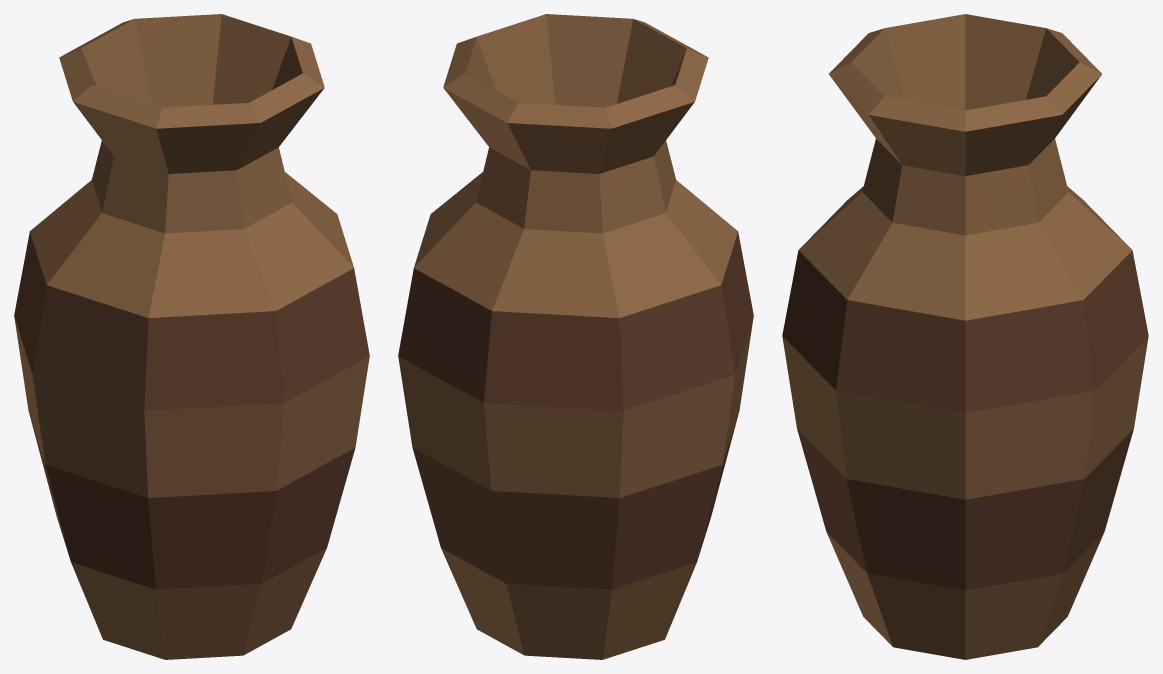
The model's file is Pot_Tall.gltf.
The picture shows the model from 3 angles, left to right: view 1: azimuth 30°, elevation 25°; view 2: azimuth 150°, elevation 25°; view 3: azimuth 270°, elevation 25°; orthographic projection.
Parts seen in each view (by area): view 1: Pot_Tall2; view 2: Pot_Tall2; view 3: Pot_Tall2.
Boxes of the visible parts, left/top/right/bottom form: Pot_Tall2: left=14, top=14, right=369, bottom=659; Pot_Tall2: left=398, top=14, right=753, bottom=659; Pot_Tall2: left=782, top=14, right=1148, bottom=659.
Size of the model in its own units: 0.1183 by 0.1975 by 0.1183.
Materials: 1 (1 with a texture image).
